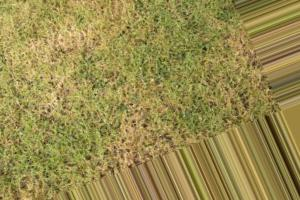patch: (2, 1, 92, 94), (124, 125, 162, 151), (101, 7, 126, 32), (38, 96, 60, 117)
